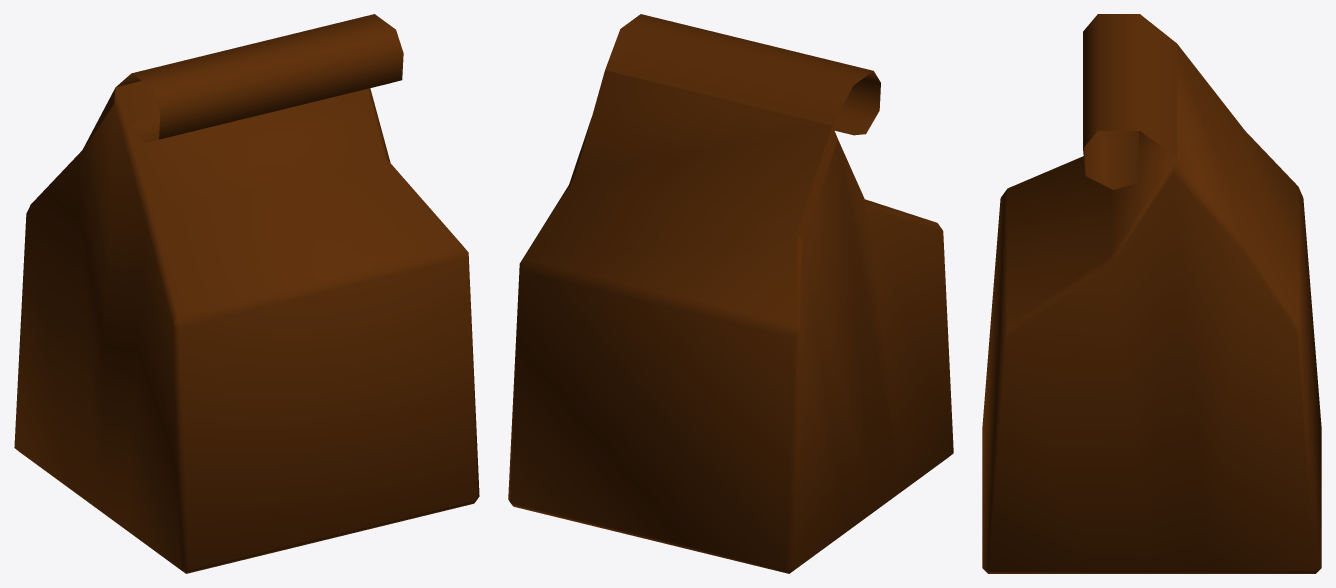
Rendered from biscuits.glb.
3 views of the same model, side by side, from view 1: azimuth 30°, elevation 25°; view 2: azimuth 150°, elevation 25°; view 3: azimuth 270°, elevation 25° (orthographic). The views are drawn at different scales.
Visible parts, largest first — view 1: Biscuits; view 2: Biscuits; view 3: Biscuits.
Boxes of the visible parts, left/top/right/bottom form: Biscuits: left=14, top=14, right=479, bottom=573; Biscuits: left=508, top=14, right=953, bottom=573; Biscuits: left=982, top=14, right=1321, bottom=573.
Bounding box in the file's own units: 0.75 × 1.05 × 0.748.
